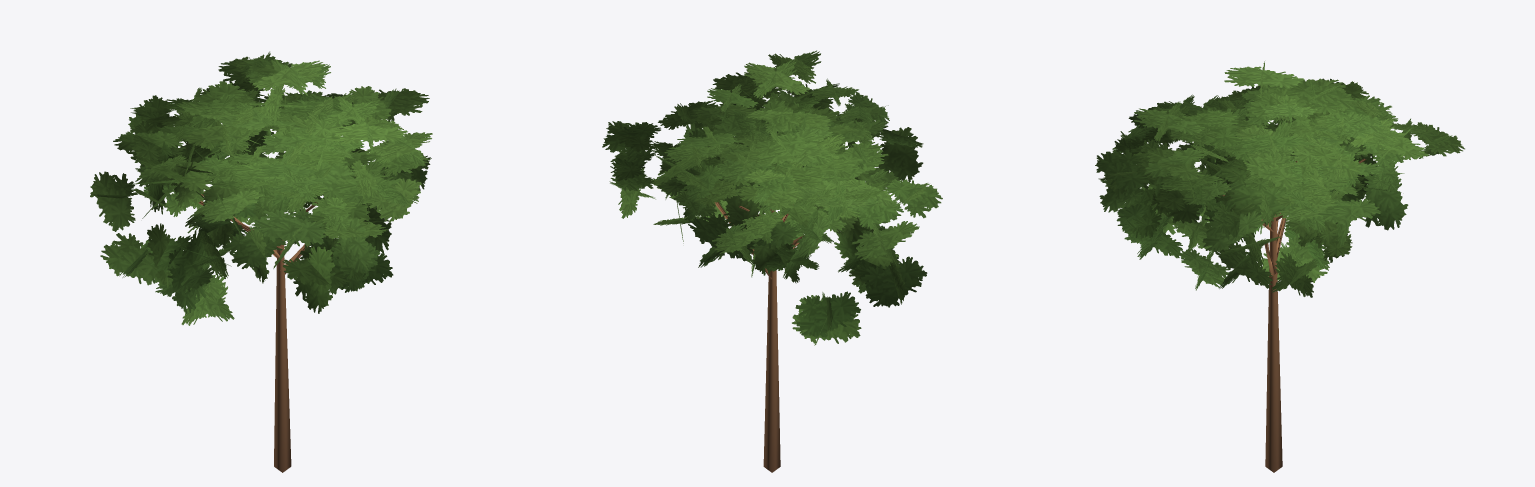
File: pinonero-muybajo.glb
The picture shows the model from 3 angles, left to right: view 1: azimuth 30°, elevation 25°; view 2: azimuth 150°, elevation 25°; view 3: azimuth 270°, elevation 25°; orthographic projection. The views are drawn at different scales.
Parts seen in each view (by area): view 1: pinonero; view 2: pinonero; view 3: pinonero.
Boxes of the visible parts, left/top/right/bottom form: pinonero: left=90, top=51, right=432, bottom=472; pinonero: left=602, top=50, right=942, bottom=472; pinonero: left=1095, top=61, right=1464, bottom=472.
Bounding box in the file's own units: 16.62 × 15.39 × 16.29.
Materials: 2 (1 with a texture image).
